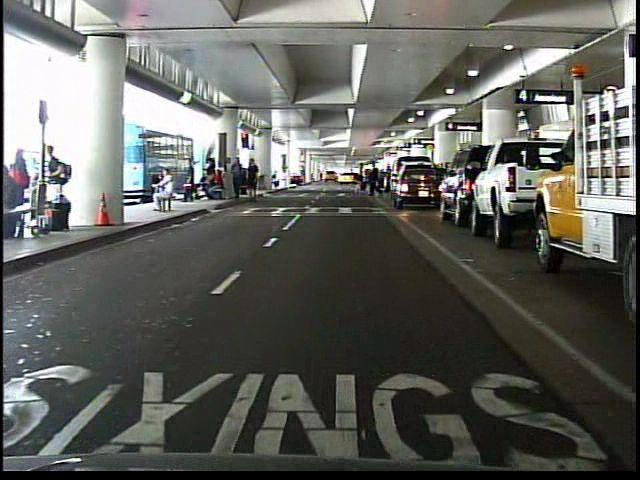person: (147, 168, 178, 216), (366, 158, 386, 202), (182, 155, 199, 206), (349, 160, 369, 197)
